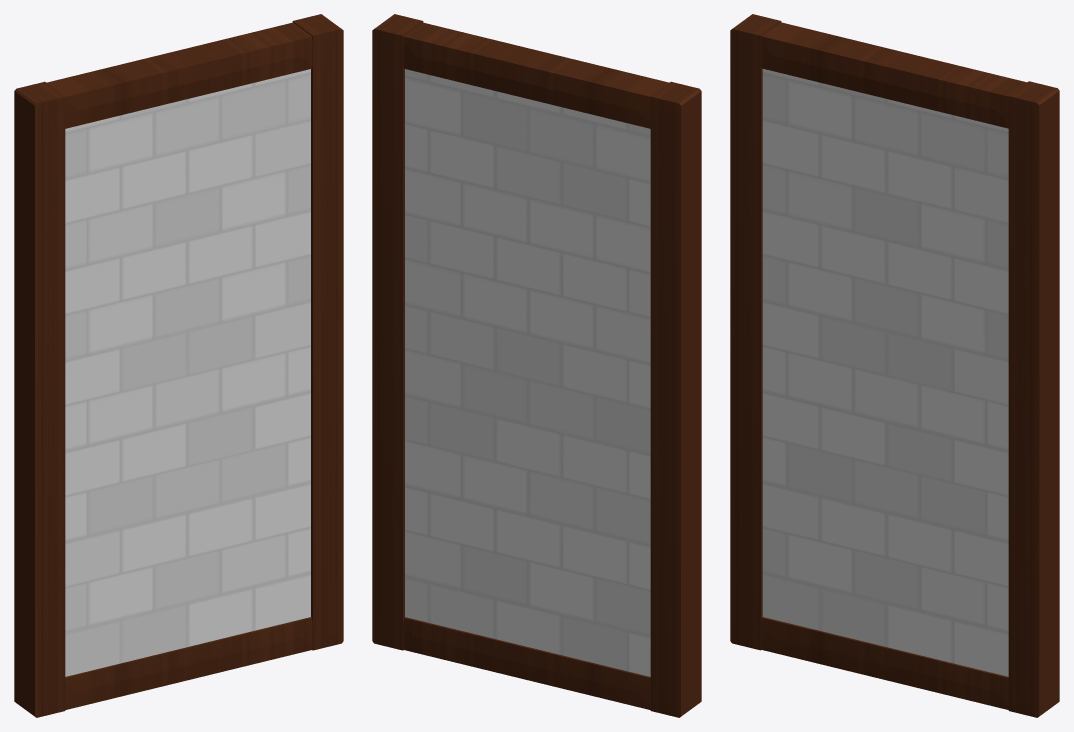
Rendered from Long_Wall.fbx.
3 renders of one model, left to right at view 1: azimuth 30°, elevation 25°; view 2: azimuth 150°, elevation 25°; view 3: azimuth 330°, elevation 25°, orthographic.
Parts seen in each view (by area): view 1: Long_Wall; view 2: Long_Wall; view 3: Long_Wall.
Part boxes in pixels (<box>): Long_Wall: <box>14,14,343,717</box>; Long_Wall: <box>372,14,701,717</box>; Long_Wall: <box>730,14,1059,717</box>.
Size of the model in its own units: 212 by 403 by 26.17.
